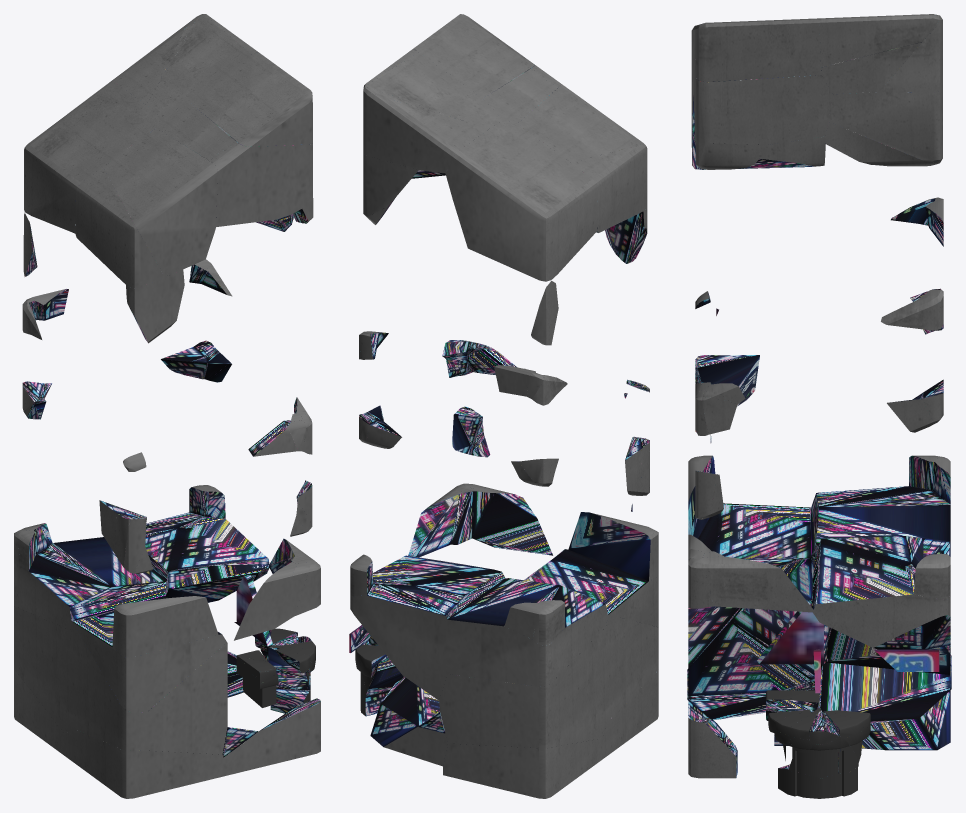
File: shellyGebouw7.0 _Broken.fbx
The picture shows the model from 3 angles, left to right: view 1: azimuth 30°, elevation 25°; view 2: azimuth 150°, elevation 25°; view 3: azimuth 270°, elevation 25°; orthographic projection. The views are drawn at different scales.
Visible parts, largest first — view 1: Cyber Skyscraper.027_cell.101, Cyber Skyscraper.027_cell.184, Cyber Skyscraper.027_cell.157, Cyber Skyscraper.027_cell.121, Cyber Skyscraper.027_cell.122, Cyber Skyscraper.027_cell.159, Cyber Skyscraper.027_cell.091, Cyber Skyscraper.027_cell.161, Cyber Skyscraper.027_cell.099, Cyber Skyscraper.027_cell.011, Cyber Skyscraper.027_cell.129, Cyber Skyscraper.027_cell.160 (+27 smaller); view 2: Cyber Skyscraper.027_cell.184, Cyber Skyscraper.027_cell.140, Cyber Skyscraper.027_cell.157, Cyber Skyscraper.027_cell.171, Cyber Skyscraper.027_cell.023, Cyber Skyscraper.027_cell.131, Cyber Skyscraper.027_cell.121, Cyber Skyscraper.027_cell.101, Cyber Skyscraper.027_cell.078, Cyber Skyscraper.027_cell.091, Cyber Skyscraper.027_cell.010, Cyber Skyscraper.027_cell.160 (+21 smaller); view 3: Cyber Skyscraper.027_cell.161, Cyber Skyscraper.027_cell.122, Cyber Skyscraper.027_cell.010, Cyber Skyscraper.027_cell.149, Cyber Skyscraper.027_cell.121, Cyber Skyscraper.027_cell.157, Cyber Skyscraper.027_cell.067, Cyber Skyscraper.027_cell.156, Cyber Skyscraper.027_cell.028, Cyber Skyscraper.027_cell.091, Cyber Skyscraper.027_cell.078, Cyber Skyscraper.027_cell.004 (+31 smaller).
Boxes of the visible parts, <box> form: Cyber Skyscraper.027_cell.101: <box>103,128,217,276</box>; Cyber Skyscraper.027_cell.184: <box>24,81,160,233</box>; Cyber Skyscraper.027_cell.157: <box>14,537,168,629</box>; Cyber Skyscraper.027_cell.121: <box>190,52,312,146</box>; Cyber Skyscraper.027_cell.122: <box>145,517,269,602</box>; Cyber Skyscraper.027_cell.159: <box>209,141,312,226</box>; Cyber Skyscraper.027_cell.091: <box>72,615,226,712</box>; Cyber Skyscraper.027_cell.161: <box>99,597,227,754</box>; Cyber Skyscraper.027_cell.099: <box>66,727,223,798</box>; Cyber Skyscraper.027_cell.011: <box>75,167,164,288</box>; Cyber Skyscraper.027_cell.129: <box>70,620,146,750</box>; Cyber Skyscraper.027_cell.160: <box>112,596,218,657</box>; Cyber Skyscraper.027_cell.184: <box>445,120,597,281</box>; Cyber Skyscraper.027_cell.140: <box>439,627,606,748</box>; Cyber Skyscraper.027_cell.157: <box>447,578,607,686</box>; Cyber Skyscraper.027_cell.171: <box>350,582,458,700</box>; Cyber Skyscraper.027_cell.023: <box>443,738,602,798</box>; Cyber Skyscraper.027_cell.131: <box>363,92,488,173</box>; Cyber Skyscraper.027_cell.121: <box>413,14,534,98</box>; Cyber Skyscraper.027_cell.101: <box>517,85,644,162</box>; Cyber Skyscraper.027_cell.078: <box>365,52,502,129</box>; Cyber Skyscraper.027_cell.091: <box>553,549,658,627</box>; Cyber Skyscraper.027_cell.010: <box>370,676,447,766</box>; Cyber Skyscraper.027_cell.160: <box>568,512,658,580</box>; Cyber Skyscraper.027_cell.161: <box>688,523,814,695</box>; Cyber Skyscraper.027_cell.122: <box>811,536,923,649</box>; Cyber Skyscraper.027_cell.010: <box>819,662,950,750</box>; Cyber Skyscraper.027_cell.149: <box>711,75,833,144</box>; Cyber Skyscraper.027_cell.121: <box>694,18,821,82</box>; Cyber Skyscraper.027_cell.157: <box>810,486,950,565</box>; Cyber Skyscraper.027_cell.067: <box>828,89,942,162</box>; Cyber Skyscraper.027_cell.156: <box>700,556,813,612</box>; Cyber Skyscraper.027_cell.028: <box>819,14,938,67</box>; Cyber Skyscraper.027_cell.091: <box>698,503,810,555</box>; Cyber Skyscraper.027_cell.078: <box>821,14,937,94</box>; Cyber Skyscraper.027_cell.004: <box>757,600,827,664</box>.
Bounding box in the file's own units: 1968 × 5146 × 1628.
